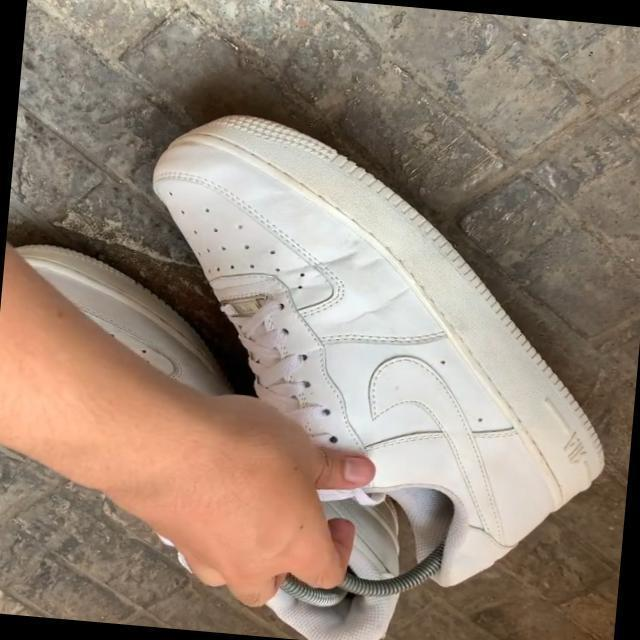nike fake air force: (88, 105, 637, 620)
